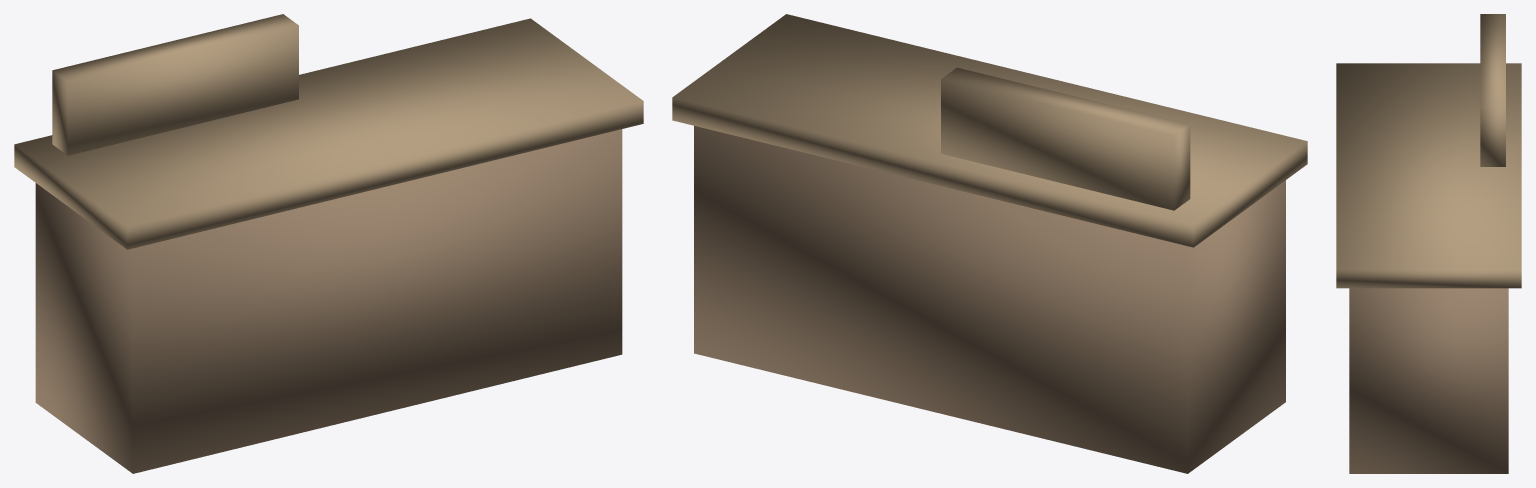
The model's file is reception_desk.glb.
3 renders of one model, left to right at view 1: azimuth 30°, elevation 25°; view 2: azimuth 150°, elevation 25°; view 3: azimuth 270°, elevation 25°, orthographic. The views are drawn at different scales.
Visible parts, largest first — view 1: world; view 2: world; view 3: world.
Boxes of the visible parts, x1,y1,x2,y2 form: world: [14, 14, 643, 473]; world: [672, 14, 1307, 473]; world: [1336, 14, 1521, 473].
Size of the model in its own units: 1.9 by 1.16 by 0.72.
